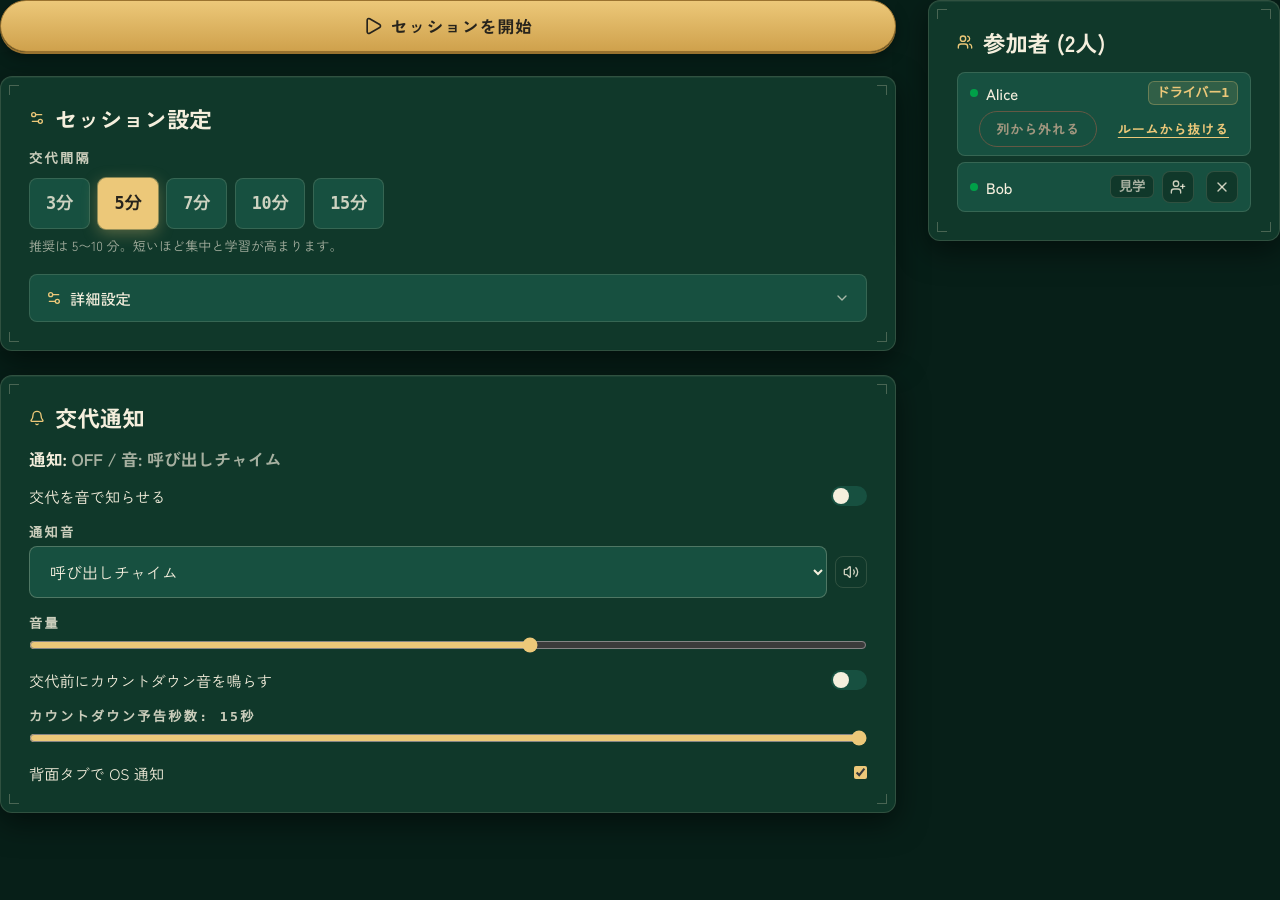
Test case: Lobby 退出の確認 › 退出ボタンを押しても即座には退出させない（確認を挟む）
The width and height of the screenshot is (1280, 900).
Click the button named "Bob を退出させる". click: point(1222, 187)
box: [1206, 171, 1238, 203]
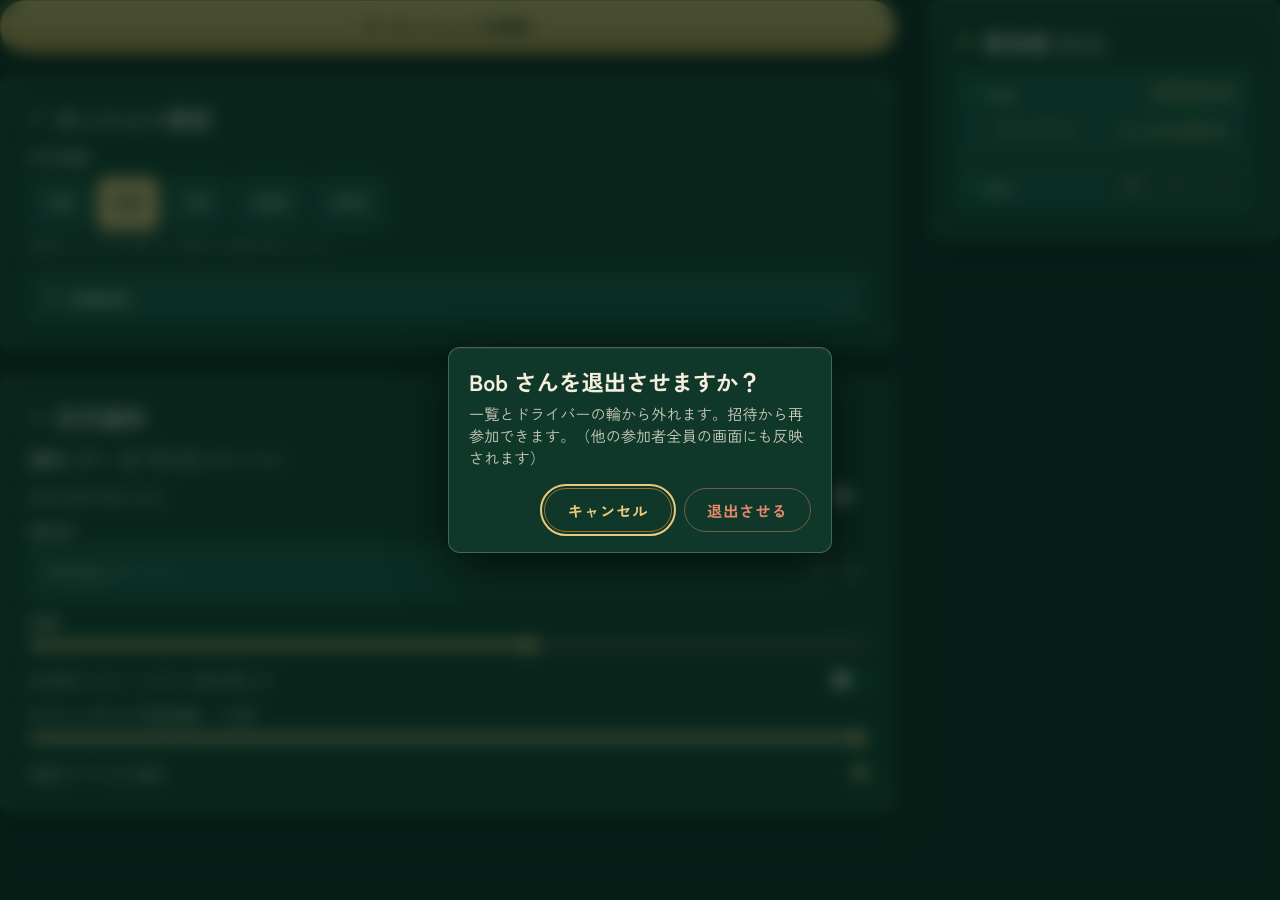
Expected: the dialog is shown, [448, 346, 832, 554]
